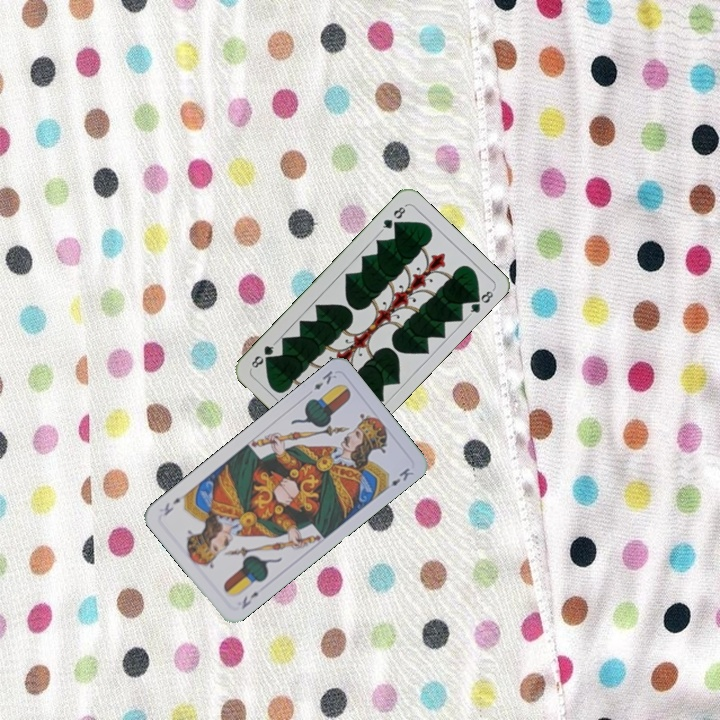EK: (309, 366, 339, 393), (237, 587, 261, 612)
G8: (377, 201, 409, 234)
